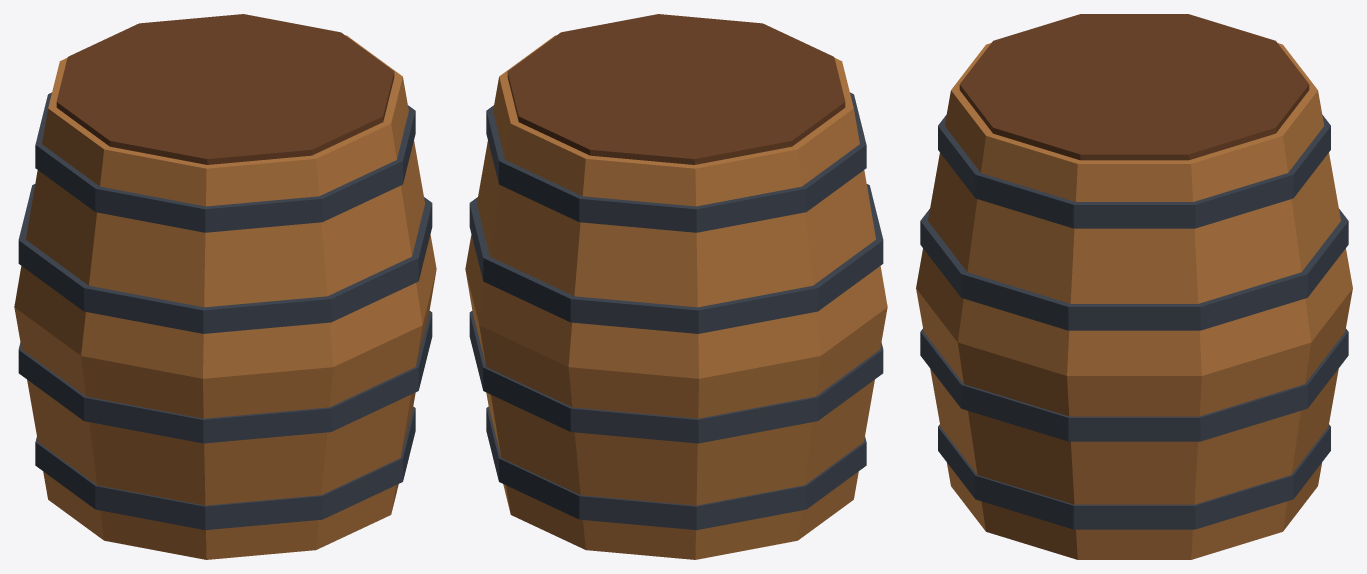
Rendered from Barrel.fbx.
The picture shows the model from 3 angles, left to right: view 1: azimuth 30°, elevation 25°; view 2: azimuth 150°, elevation 25°; view 3: azimuth 270°, elevation 25°; orthographic projection.
Visible parts, largest first — view 1: Barrel; view 2: Barrel; view 3: Barrel.
Part boxes in pixels (x1=…): Barrel: x1=14, y1=14, x2=436, y2=559; Barrel: x1=465, y1=14, x2=887, y2=559; Barrel: x1=916, y1=14, x2=1352, y2=559.
Bounding box in the file's own units: 2.85 × 3.05 × 3.
1 material, 1 textured.
